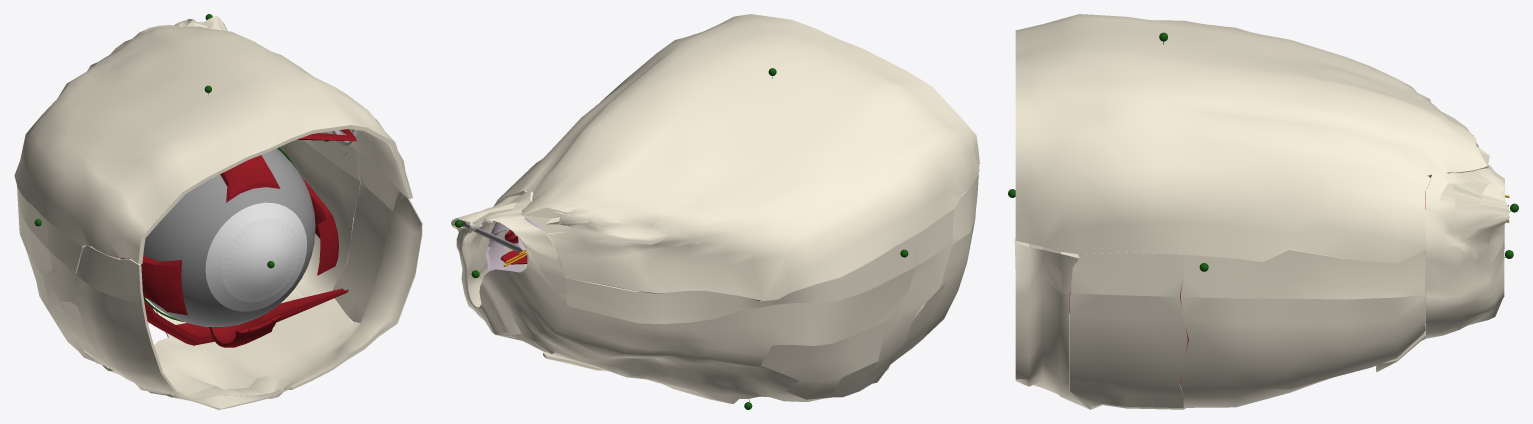
File: Orbit.FBX
The picture shows the model from 3 angles, left to right: view 1: azimuth 30°, elevation 25°; view 2: azimuth 150°, elevation 25°; view 3: azimuth 270°, elevation 25°; orthographic projection. The views are drawn at different scales.
Visible parts, largest first — view 1: osFrontale, osMaxilla, bSclera, osZygomaticum, bCornea, osEthmoidale, osLacrimale, osSphenoildale, mObliquusInferior, mRectusLateralis, mRectusSuperior, mRectusMedialis (+2 smaller); view 2: osFrontale, osSphenoildale, osZygomaticum, othAnulusTendineusCommunis; view 3: osFrontale, osEthmoidale, osLacrimale, osSphenoildale, osMaxilla.
Part boxes in pixels (box(x1,y1,x2,y2)): osFrontale: box(14, 25, 412, 263); osMaxilla: box(102, 184, 422, 400); bSclera: box(143, 148, 315, 326); osZygomaticum: box(61, 245, 290, 409); bCornea: box(205, 202, 306, 311); osEthmoidale: box(277, 132, 360, 297); osLacrimale: box(332, 149, 395, 322); osSphenoildale: box(17, 15, 227, 361); mObliquusInferior: box(144, 288, 348, 345); mRectusLateralis: box(120, 256, 187, 315); mRectusSuperior: box(220, 155, 280, 202); mRectusMedialis: box(302, 178, 338, 275); osFrontale: box(490, 14, 979, 300); osSphenoildale: box(451, 191, 954, 404); osZygomaticum: box(891, 165, 979, 363); othAnulusTendineusCommunis: box(485, 217, 561, 272); osFrontale: box(1015, 14, 1489, 263); osEthmoidale: box(1180, 249, 1425, 407); osLacrimale: box(1070, 252, 1187, 407); osSphenoildale: box(1423, 165, 1508, 338); osMaxilla: box(1014, 238, 1425, 409).
Bounding box in the file's own units: 1.55 × 1.36 × 1.8.
